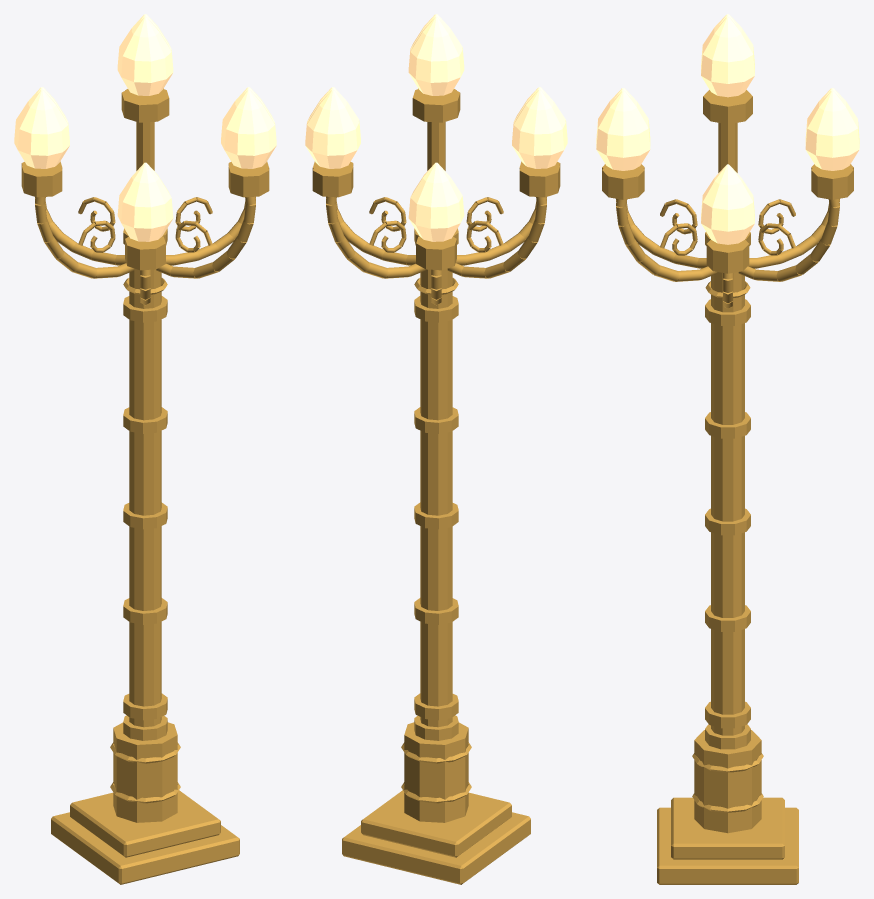
The model's file is P06_plaza_lamp_v2.glb.
3 renders of one model, left to right at view 1: azimuth 30°, elevation 25°; view 2: azimuth 150°, elevation 25°; view 3: azimuth 270°, elevation 25°, orthographic.
Parts seen in each view (by area): view 1: GAME_Warm gold, GAME_Warm ivory glass; view 2: GAME_Warm gold, GAME_Warm ivory glass; view 3: GAME_Warm gold, GAME_Warm ivory glass.
Boxes of the visible parts, x1=… form: GAME_Warm gold: x1=21, y1=88, x2=269, y2=884; GAME_Warm ivory glass: x1=14, y1=14, x2=276, y2=241; GAME_Warm gold: x1=312, y1=88, x2=560, y2=884; GAME_Warm ivory glass: x1=305, y1=14, x2=567, y2=241; GAME_Warm gold: x1=602, y1=90, x2=853, y2=884; GAME_Warm ivory glass: x1=596, y1=14, x2=859, y2=244.
Size of the model in its own units: 1.68 by 5.21 by 1.48.
